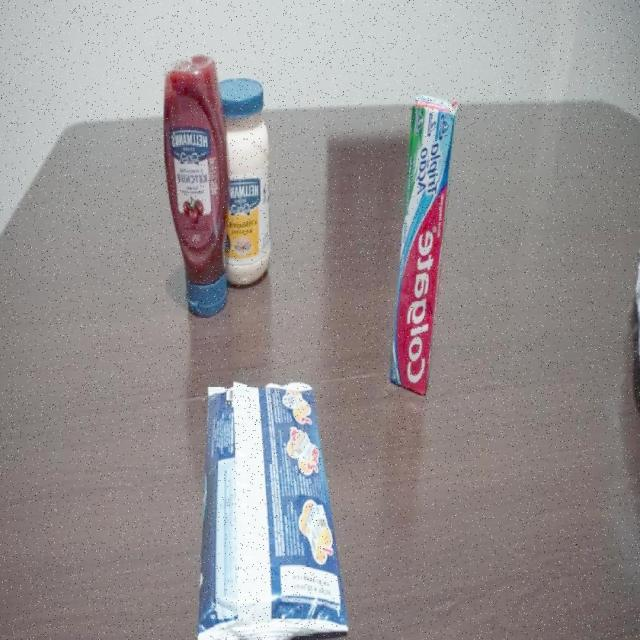Ketchup: (162, 54, 229, 318)
Mayonnaise: (217, 79, 271, 287)
Popcorn: (195, 379, 348, 640)
Toothpaste: (389, 95, 460, 397)
